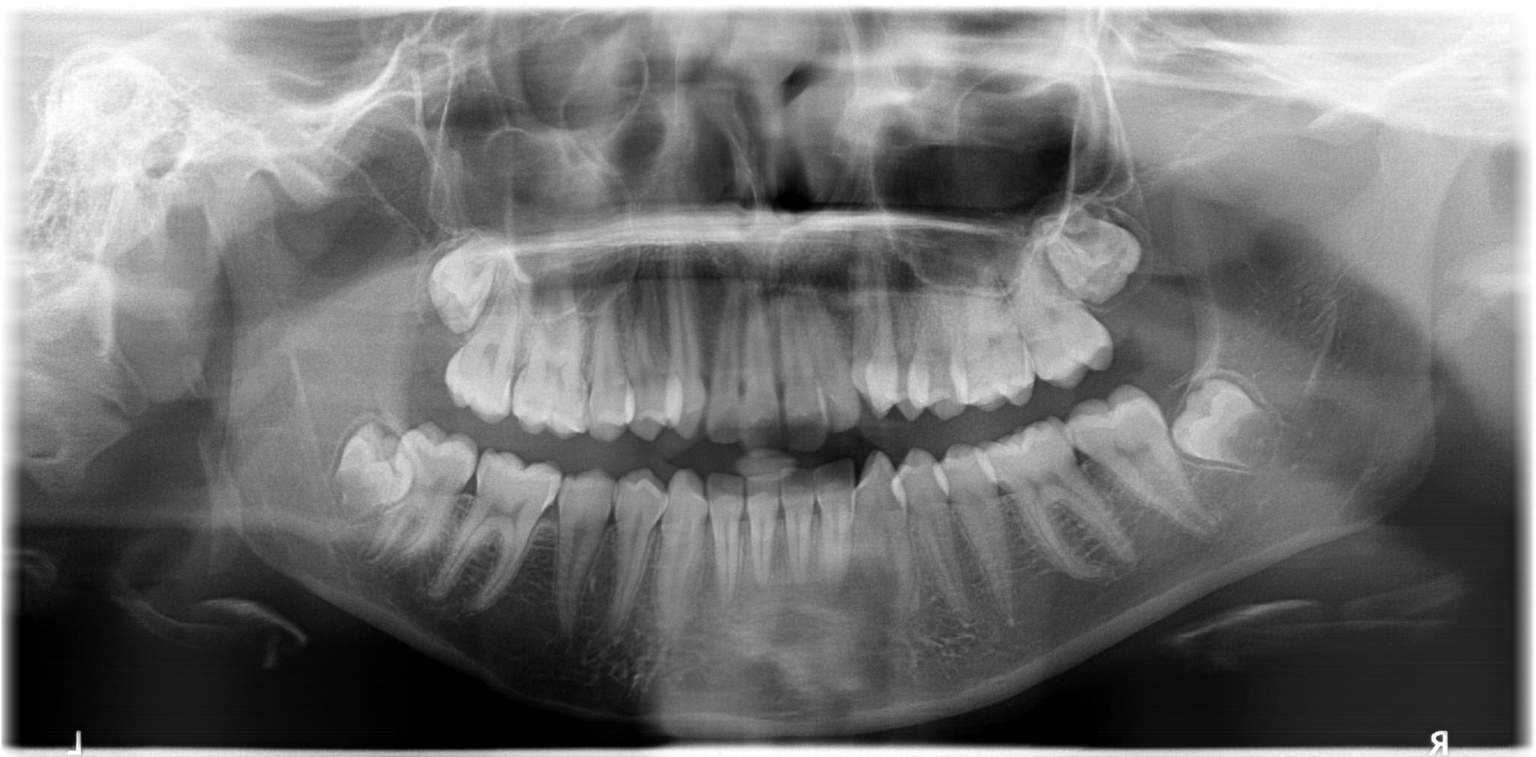Premolars: (549, 219, 1536, 631), (634, 196, 1536, 563), (568, 114, 1536, 319), (300, 204, 890, 485), (192, 196, 533, 639), (241, 106, 677, 351)
